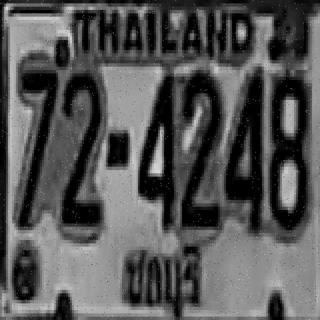N02: (58, 76, 102, 234), (59, 70, 101, 227), (180, 68, 220, 228)
N04: (224, 68, 262, 232), (136, 68, 174, 222)
N07: (13, 65, 57, 225)
N08: (268, 72, 308, 232)
P13: (118, 239, 220, 320)
